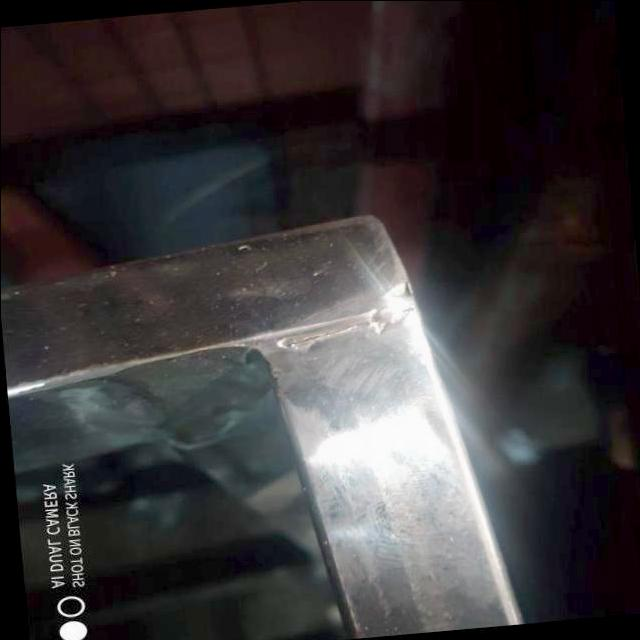defect: (278, 320, 370, 348)
